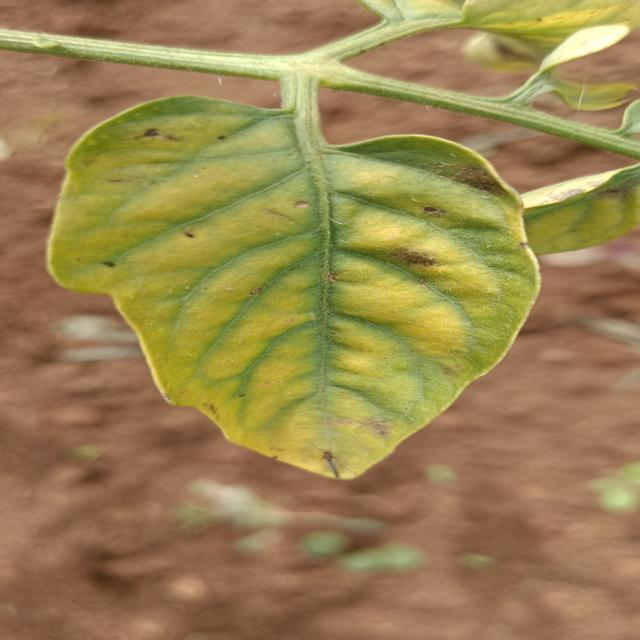tomato_early blight: (36, 90, 548, 483)
